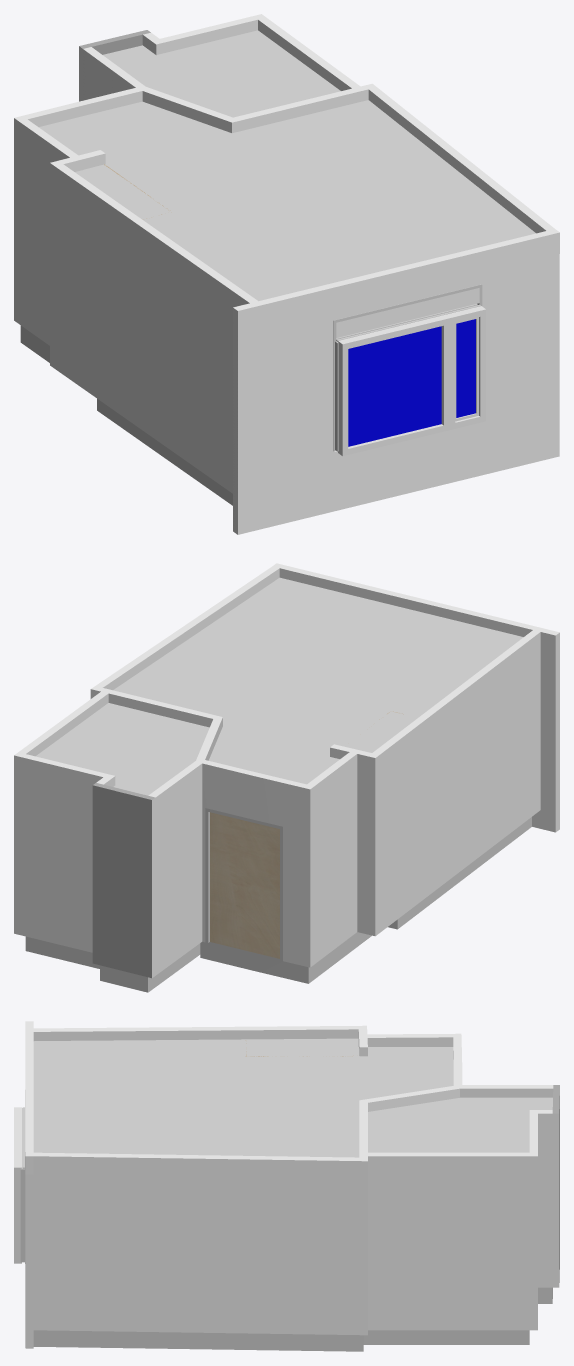
File: residentRoom2.glb
3 views of the same model, one above another, from view 1: azimuth 30°, elevation 25°; view 2: azimuth 150°, elevation 25°; view 3: azimuth 270°, elevation 25° (orthographic). The views are drawn at different scales.
Parts seen in each view (by area): view 1: Walls_2, Ceilings, WN_Resident_RM-Large_2, Walls, WN_Resident_RM-Large, Floors, CW_Single Window Frame_L2_With Shades, Walls_3; view 2: Walls_2, Ceilings, Walls_3, Door, Floors, Walls, DR_SINGLE; view 3: Walls_2, Ceilings, Floors, Walls, WN_Resident_RM-Large, CW_Single Window Frame_L2_With Shades.
Boxes of the visible parts, bbox=[...] form: Walls_2: bbox=[14, 14, 559, 534]; Ceilings: bbox=[39, 30, 535, 301]; WN_Resident_RM-Large_2: bbox=[348, 319, 475, 446]; Walls: bbox=[233, 229, 559, 332]; WN_Resident_RM-Large: bbox=[338, 306, 485, 456]; Floors: bbox=[20, 325, 232, 505]; CW_Single Window Frame_L2_With Shades: bbox=[333, 284, 482, 451]; Walls_3: bbox=[79, 30, 150, 54]; Walls_2: bbox=[14, 566, 559, 977]; Ceilings: bbox=[35, 577, 523, 795]; Walls_3: bbox=[92, 783, 155, 978]; Door: bbox=[210, 812, 279, 958]; Floors: bbox=[25, 817, 531, 992]; Walls: bbox=[272, 563, 559, 654]; DR_SINGLE: bbox=[205, 808, 282, 960]; Walls_2: bbox=[25, 1025, 559, 1348]; Ceilings: bbox=[33, 1038, 552, 1157]; Floors: bbox=[33, 1287, 552, 1351]; Walls: bbox=[25, 1021, 33, 1174]; WN_Resident_RM-Large: bbox=[14, 1107, 21, 1263]; CW_Single Window Frame_L2_With Shades: bbox=[20, 1090, 25, 1263].
Size of the model in its own units: 5 by 3.2 by 8.23.
40 materials, 7 textured.
